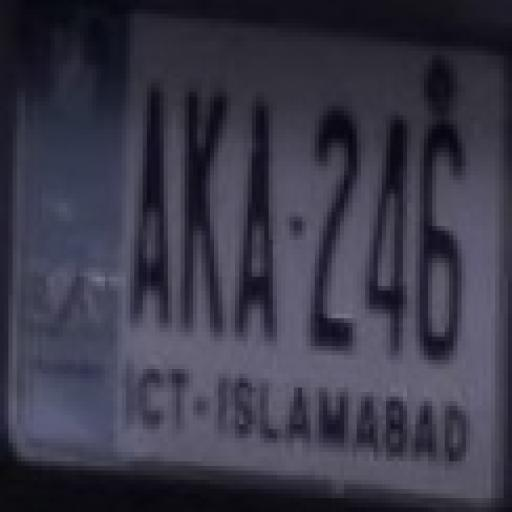2: (306, 96, 368, 362)
4: (370, 99, 420, 365)
6: (417, 110, 476, 372)
A: (232, 77, 290, 347), (128, 73, 175, 341)
K: (180, 76, 232, 340)
